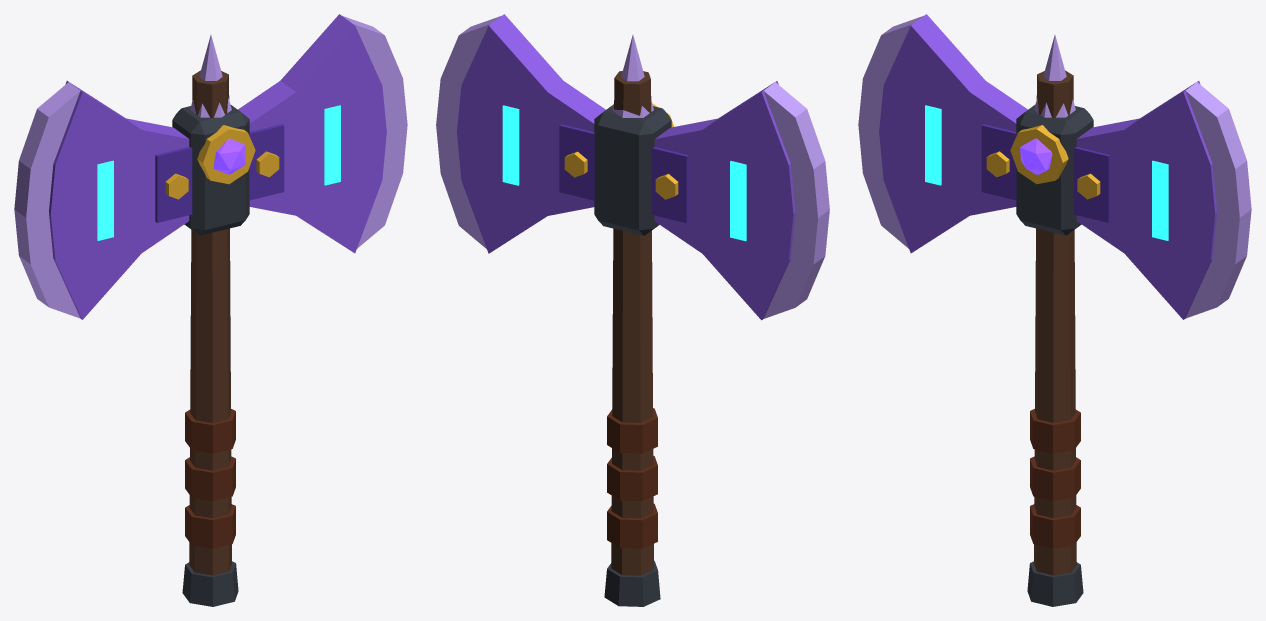
File: Res_BattleAxe_Enchanted.fbx
The picture shows the model from 3 angles, left to right: view 1: azimuth 30°, elevation 25°; view 2: azimuth 150°, elevation 25°; view 3: azimuth 330°, elevation 25°; orthographic projection.
Parts seen in each view (by area): view 1: Res_BattleAxe_Enchanted; view 2: Res_BattleAxe_Enchanted; view 3: Res_BattleAxe_Enchanted.
Boxes of the visible parts, x1,y1,x2,y2 form: Res_BattleAxe_Enchanted: (14,14,407,606); Res_BattleAxe_Enchanted: (436,14,829,606); Res_BattleAxe_Enchanted: (858,14,1251,606).
Size of the model in its own units: 0.84 by 1.18 by 0.1475.
